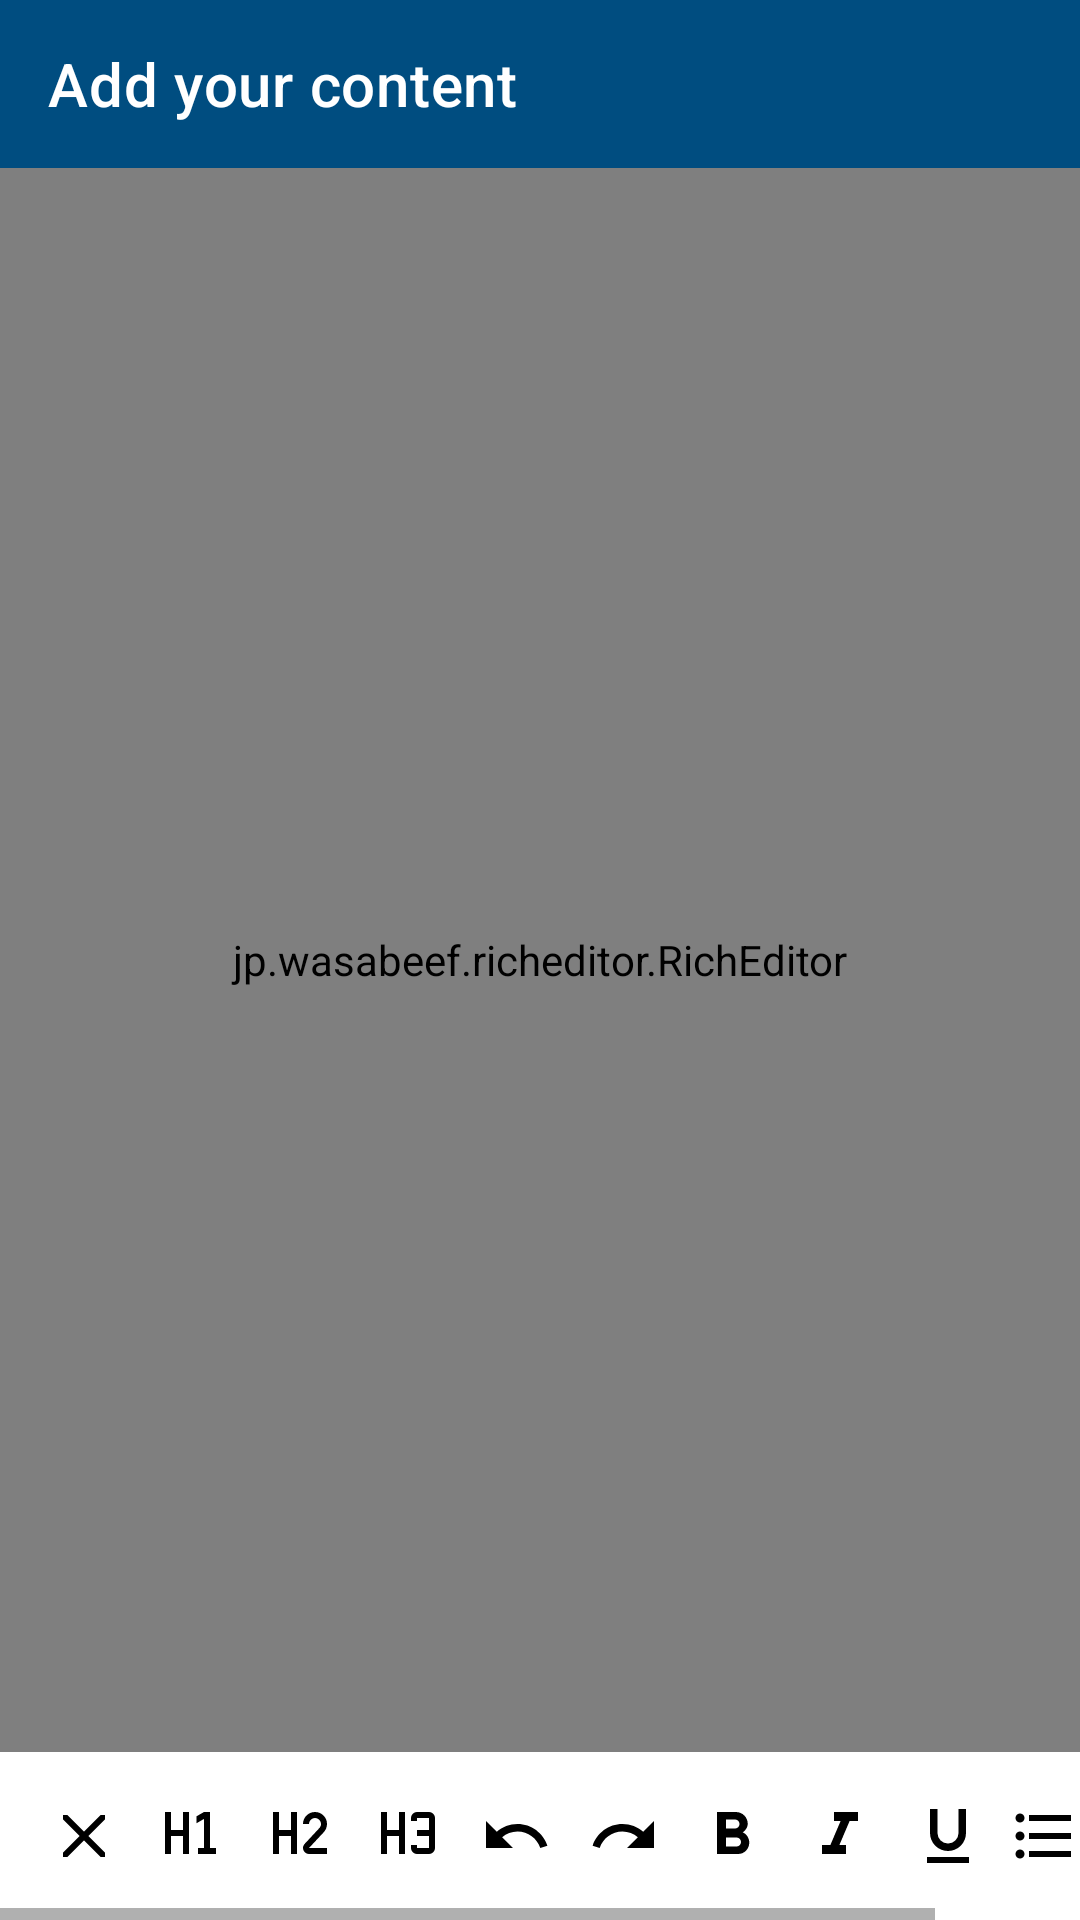

Icons on this 1080px×1920px Android screen, each with its box as (x1,y1,x2,y2):
close: (63,1815,105,1857)
format italic: (822,1812,858,1854)
format redo: (592,1821,654,1848)
format underline: (927,1809,969,1863)
format undo: (486,1821,548,1848)
